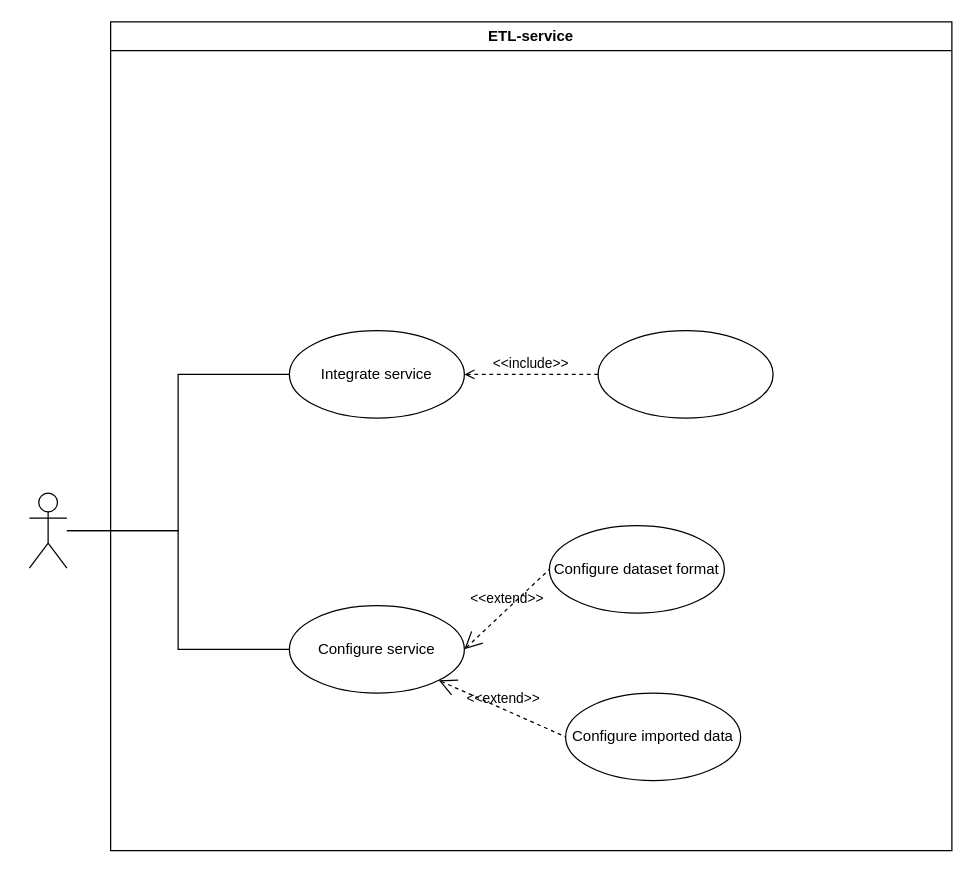
Some shapes in this 974 by 873 pixel diagram are drawn without their labels. Here are the shapes that lost their labels. From the top down, the centre of each, then its label:
At point 685,373: "Watch service requirements for integration".
At point 47,530: "DevOps".
